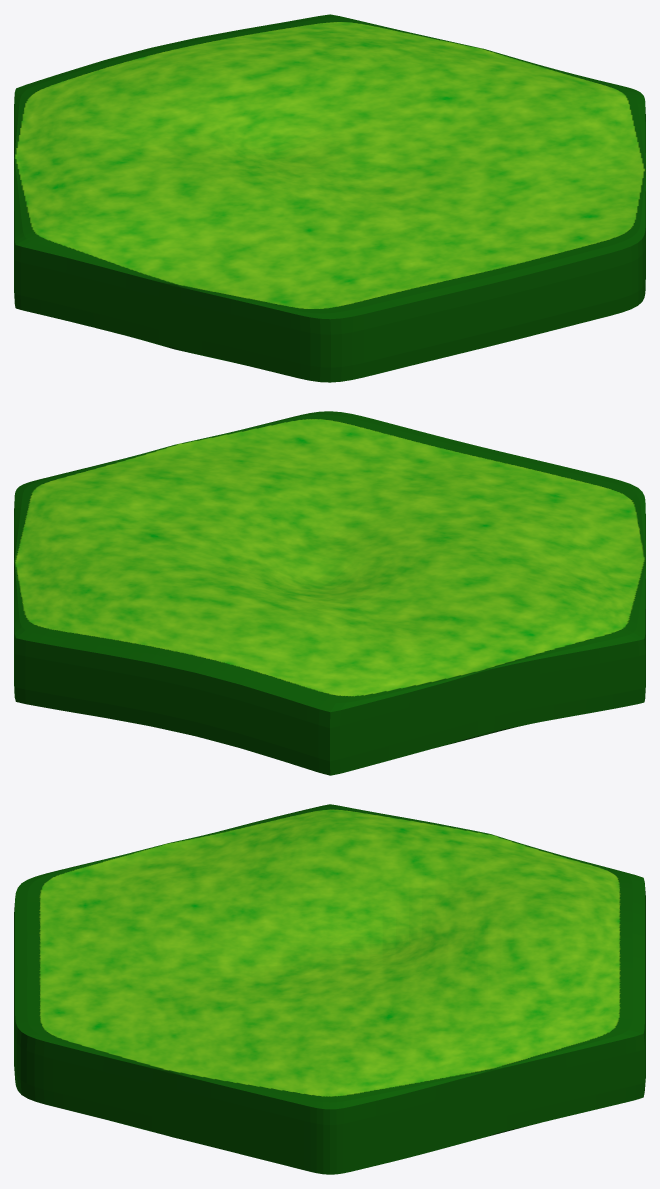
The model's file is hexagonGrass.obj.
The picture shows the model from 3 angles, top to bottom: view 1: azimuth 30°, elevation 25°; view 2: azimuth 150°, elevation 25°; view 3: azimuth 270°, elevation 25°; orthographic projection.
Parts seen in each view (by area): view 1: Okrąg.008; view 2: Okrąg.008; view 3: Okrąg.008.
Boxes of the visible parts, x1=… form: Okrąg.008: x1=14, y1=14, x2=645, y2=382; Okrąg.008: x1=14, y1=411, x2=645, y2=775; Okrąg.008: x1=14, y1=804, x2=645, y2=1174.
Bounding box in the file's own units: 1.98 × 0.2647 × 1.73.
